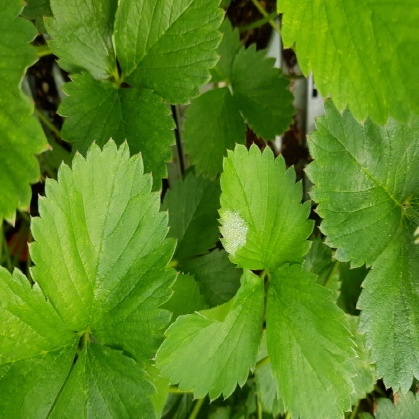Powdery_Leaf: (104, 146, 266, 277)
